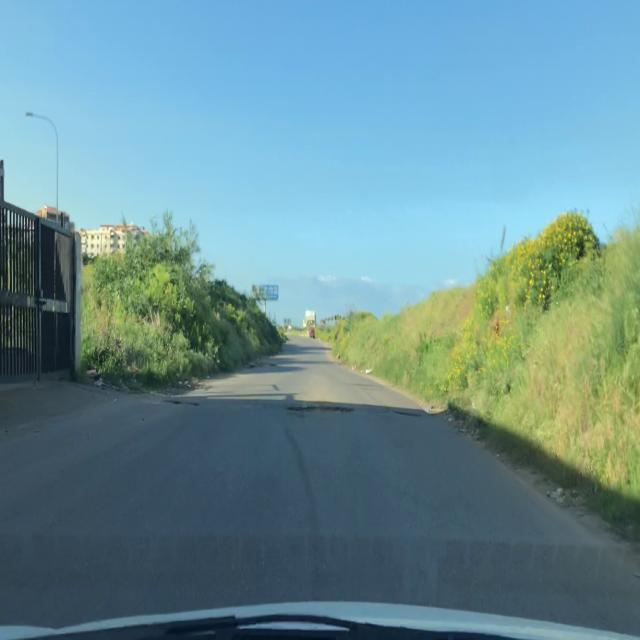pothole: (284, 404, 359, 419), (159, 396, 200, 411), (392, 405, 424, 421), (246, 360, 278, 370)
